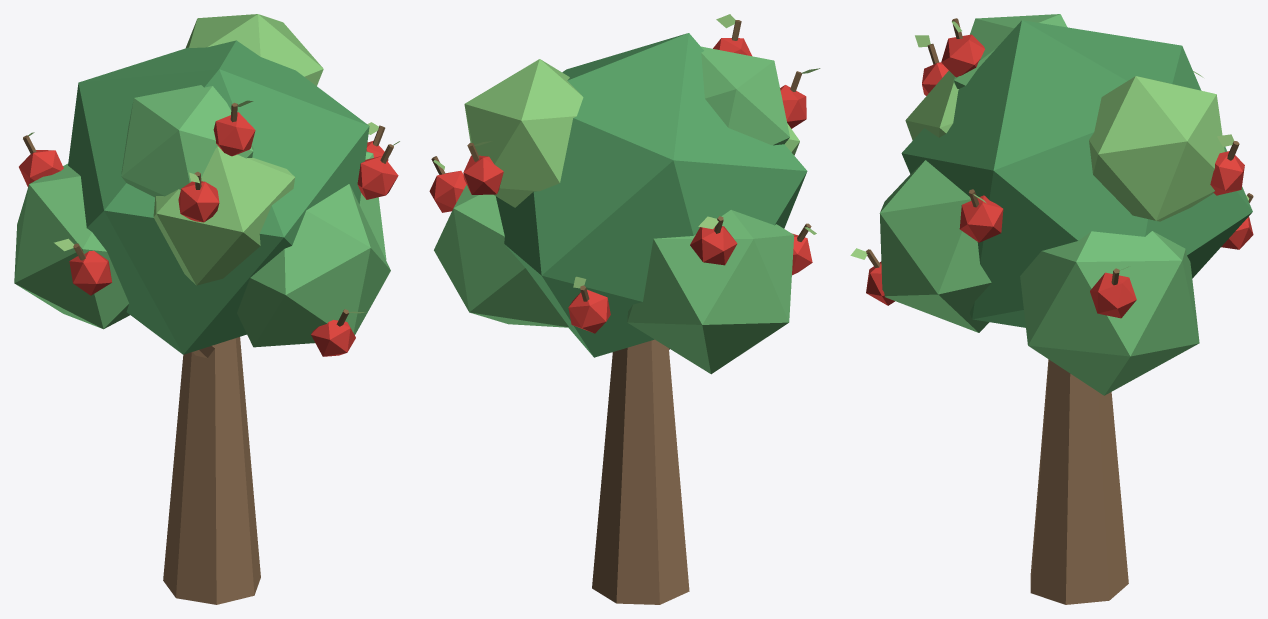
The model's file is low_poly_tree.glb.
3 views of the same model, side by side, from view 1: azimuth 30°, elevation 25°; view 2: azimuth 150°, elevation 25°; view 3: azimuth 270°, elevation 25° (orthographic). The views are drawn at different scales.
Visible parts, largest first — view 1: Leaves, Trunk, Apples, AppleStems; view 2: Leaves, Trunk, Apples, AppleStems, AppleLeaves; view 3: Leaves, Trunk, Apples, AppleStems, AppleLeaves.
Boxes of the visible parts, <box> form: Leaves: <box>14,14,390,354</box>; Trunk: <box>163,337,260,604</box>; Apples: <box>19,112,398,356</box>; AppleStems: <box>23,102,393,326</box>; Leaves: <box>434,33,807,374</box>; Trunk: <box>592,339,689,604</box>; Apples: <box>429,38,812,333</box>; AppleStems: <box>431,20,811,301</box>; AppleLeaves: <box>433,14,820,288</box>; Leaves: <box>879,14,1252,395</box>; Trunk: <box>1030,359,1128,604</box>; Apples: <box>866,34,1253,318</box>; AppleStems: <box>866,18,1253,285</box>; AppleLeaves: <box>850,21,1249,270</box>.
Bounding box in the file's own units: 3.53 × 4.96 × 3.28.
